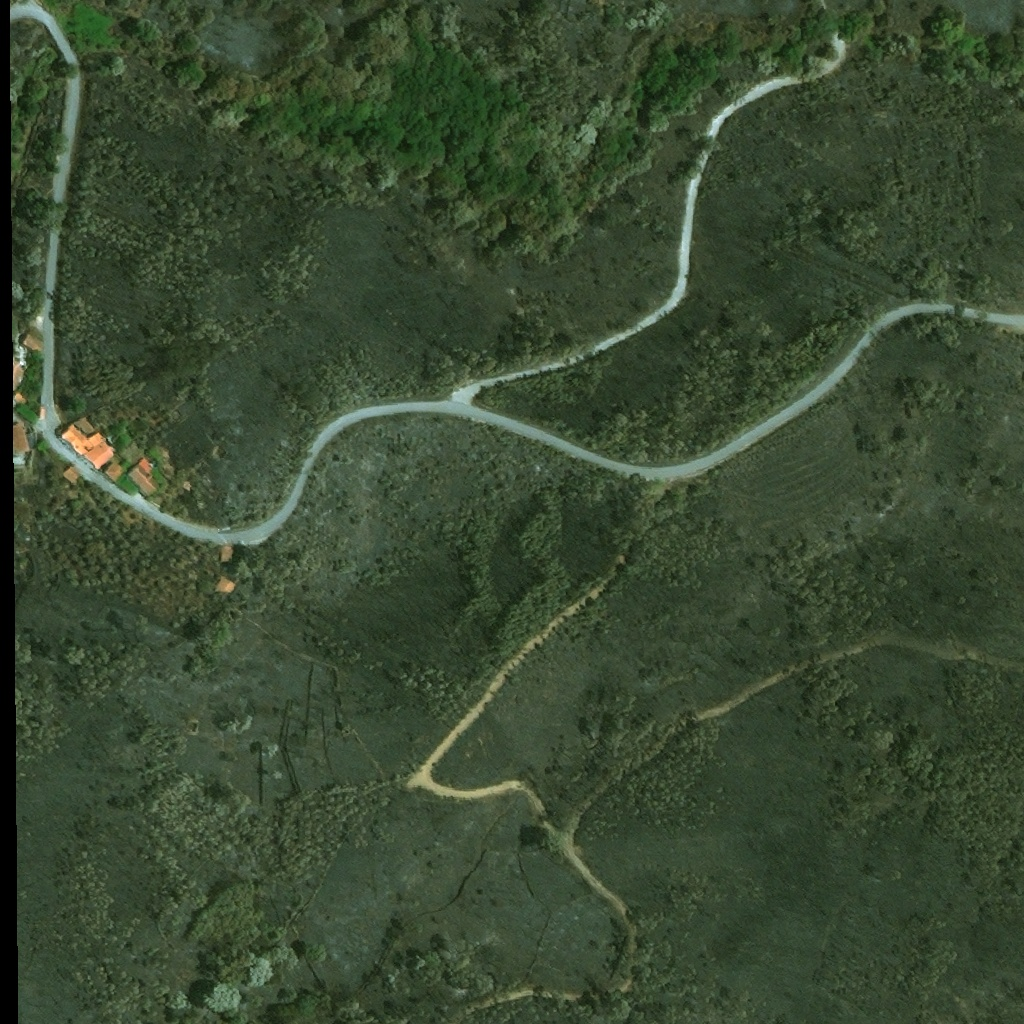0 no-damage: (59, 422, 119, 471), (127, 454, 162, 498), (73, 415, 100, 439), (21, 332, 46, 355), (104, 459, 127, 483), (212, 574, 237, 594), (62, 464, 84, 486), (19, 346, 29, 381), (221, 545, 234, 562), (178, 483, 191, 497), (36, 405, 45, 420)
